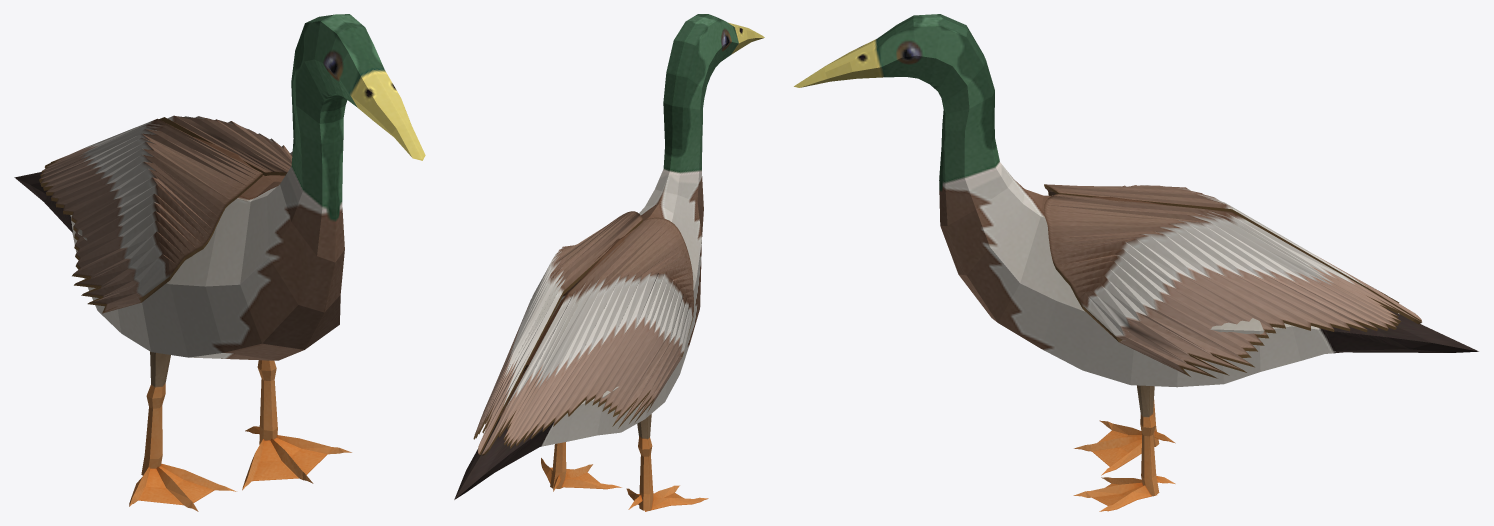
The model's file is Duck_03.FBX.
3 views of the same model, side by side, from view 1: azimuth 30°, elevation 25°; view 2: azimuth 150°, elevation 25°; view 3: azimuth 270°, elevation 25° (orthographic). The views are drawn at different scales.
Parts seen in each view (by area): view 1: Duck_01, Duck_Right_Wing_01, Duck_Right_Leg_01, Duck_Left_Leg_01, Duck_Left_Wing_01, Duck_tail_01; view 2: Duck_Right_Wing_01, Duck_01, Duck_Left_Wing_01, Duck_tail_01, Duck_Right_Leg_01, Duck_Left_Leg_01; view 3: Duck_01, Duck_Left_Wing_01, Duck_Right_Wing_01, Duck_tail_01, Duck_Left_Leg_01, Duck_Right_Leg_01.
Boxes of the visible parts, x1,y1,x2,y2 form: Duck_01: (69,14,425,360); Duck_Right_Wing_01: (39,118,262,313); Duck_Right_Leg_01: (129,351,236,511); Duck_Left_Leg_01: (242,360,351,490); Duck_Left_Wing_01: (159,115,292,175); Duck_tail_01: (14,172,72,231); Duck_Right_Wing_01: (481,217,693,455); Duck_01: (514,14,764,446); Duck_Left_Wing_01: (473,211,642,454); Duck_tail_01: (454,389,550,499); Duck_Right_Leg_01: (626,414,708,511); Duck_Left_Leg_01: (541,442,621,491); Duck_01: (794,14,1342,387); Duck_Left_Wing_01: (1043,194,1421,378); Duck_Right_Wing_01: (1044,184,1421,321); Duck_tail_01: (1326,309,1478,352); Duck_Left_Leg_01: (1073,385,1175,511); Duck_Right_Leg_01: (1074,400,1175,475).
Size of the model in its own units: 6.6 by 15.49 by 20.97.
